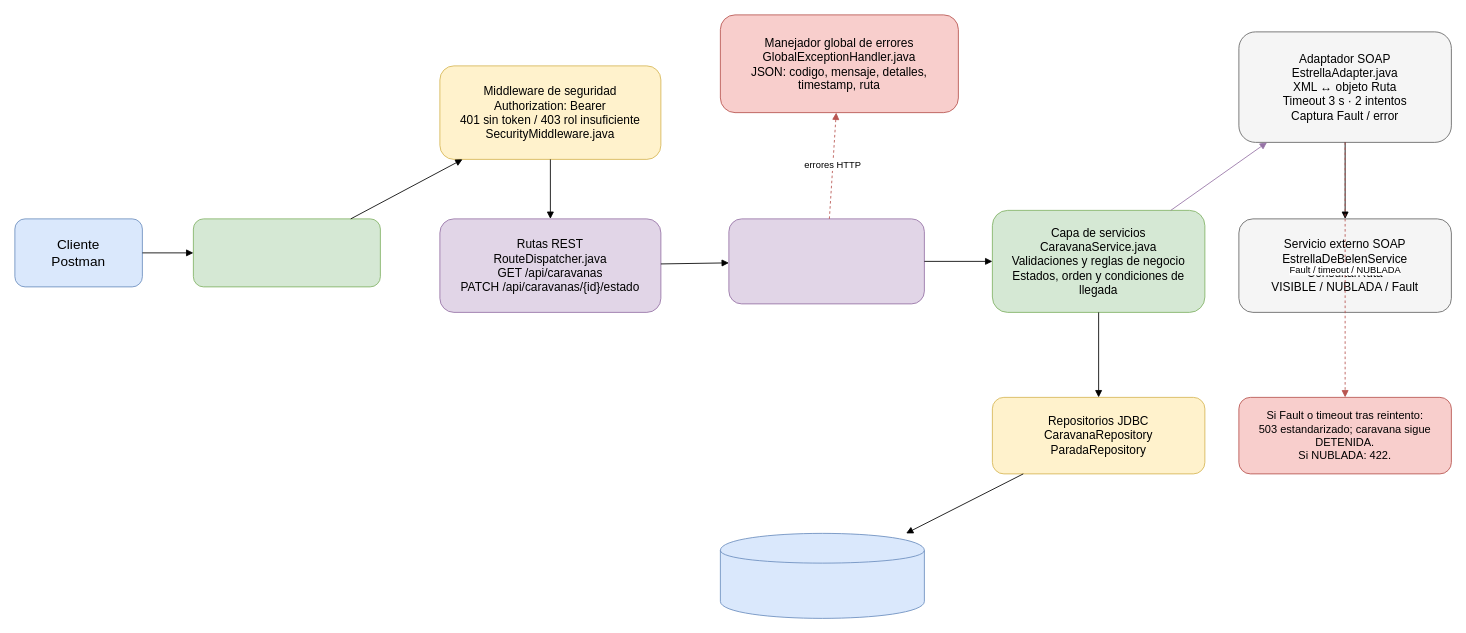
Some shapes in this 1466 by 633 pixel diagram are drawn without their labels. The box of each missing label's shape, as (x1, y1, x2, y2) in pixels:
Base de datos H2 Database.java Tablas caravanas / paradas: (720, 533, 924, 618)
Controlador CaravanaController.java Transforma HTTP en llamadas al servicio: (728, 218, 924, 304)
Servidor HTTP Java com.sun.net.httpserver.HttpServer Main.java :8080: (193, 218, 380, 287)
